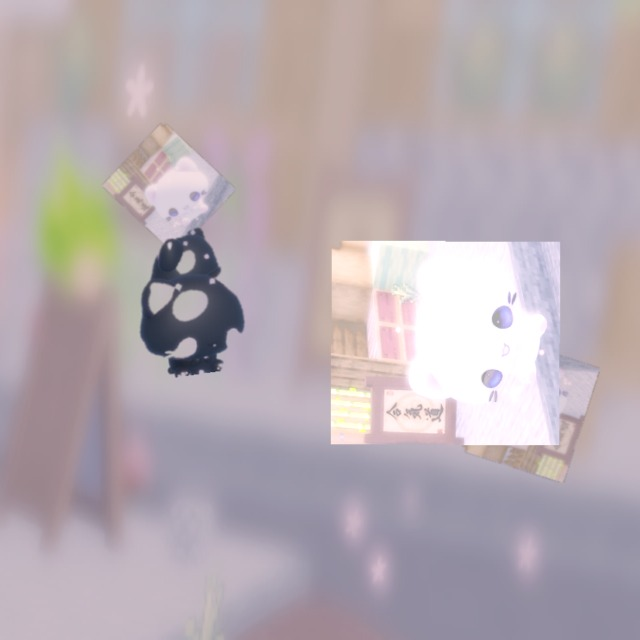urso_branco: (330, 240, 561, 446), (461, 336, 600, 483), (102, 121, 236, 254)
urso_preto: (120, 211, 262, 383)
